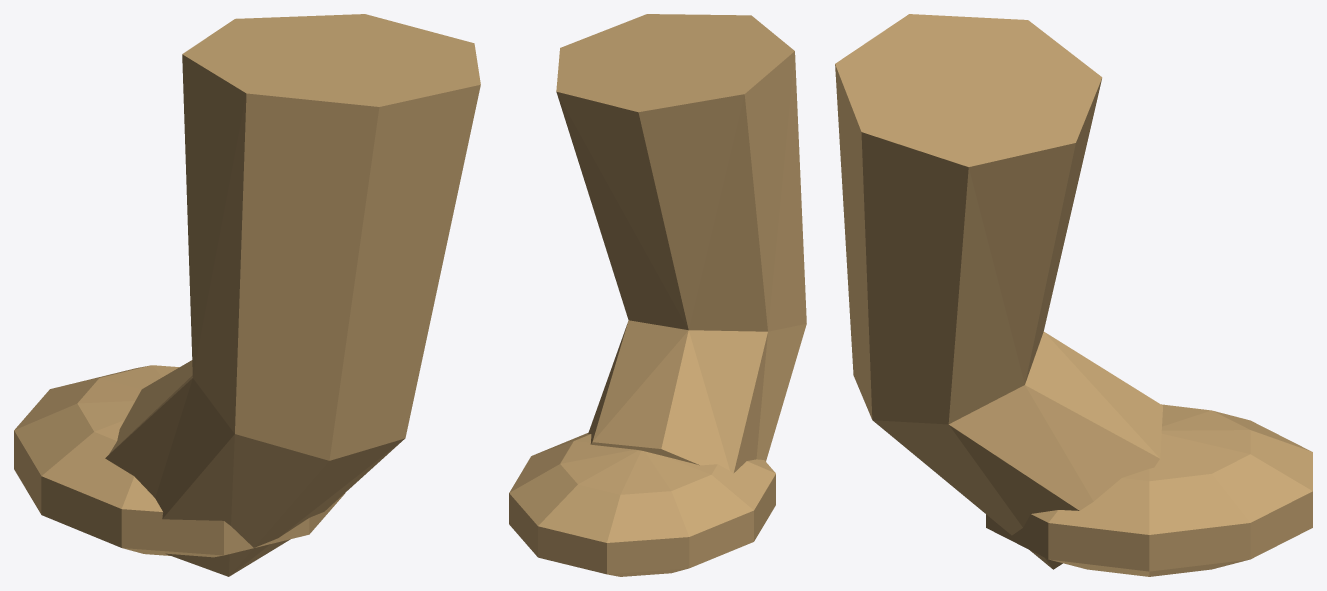
The model's file is gorehulk_d_leg_-1.obj.
3 views of the same model, side by side, from view 1: azimuth 30°, elevation 25°; view 2: azimuth 150°, elevation 25°; view 3: azimuth 270°, elevation 25° (orthographic). The views are drawn at different scales.
Parts seen in each view (by area): view 1: gorehulk_d_leg_-1; view 2: gorehulk_d_leg_-1; view 3: gorehulk_d_leg_-1.
Part boxes in pixels (x1,y1,x2,y2): gorehulk_d_leg_-1: (14, 14, 480, 576); gorehulk_d_leg_-1: (509, 14, 806, 576); gorehulk_d_leg_-1: (835, 14, 1312, 576).
Size of the model in its own units: 0.3638 by 0.5594 by 0.4759.
